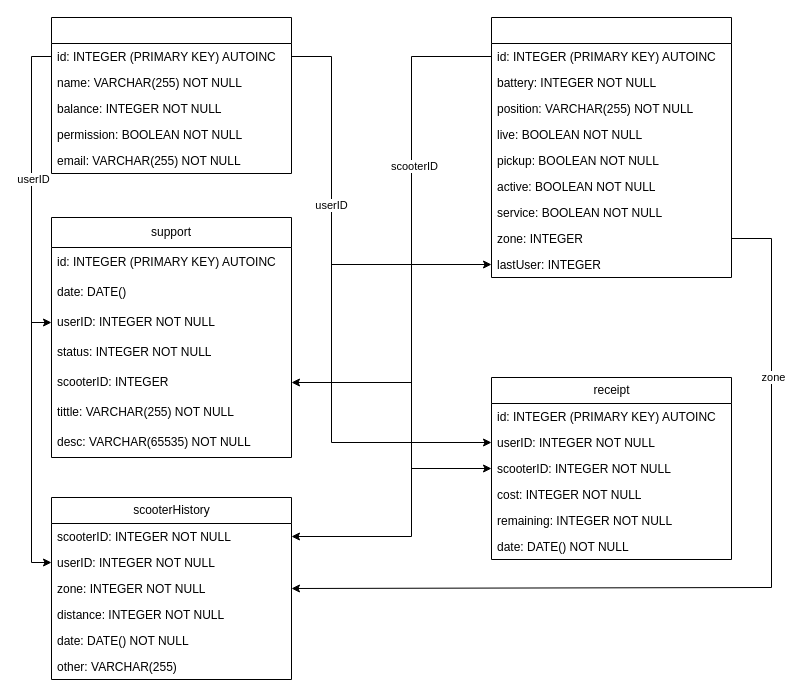
Image size: 802x700. Some labels were removed from this diagram. Here are the shapes that lost their labels. From the top down, the box of each, then its label:
(50, 16, 292, 174): users
(490, 16, 732, 278): scooters
